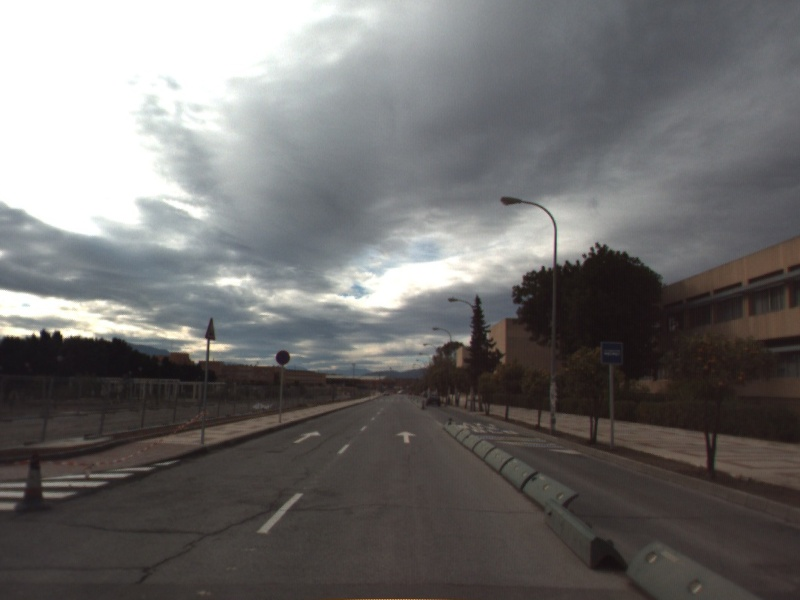STRAIGHT: (291, 428, 323, 445), (394, 429, 418, 445)
